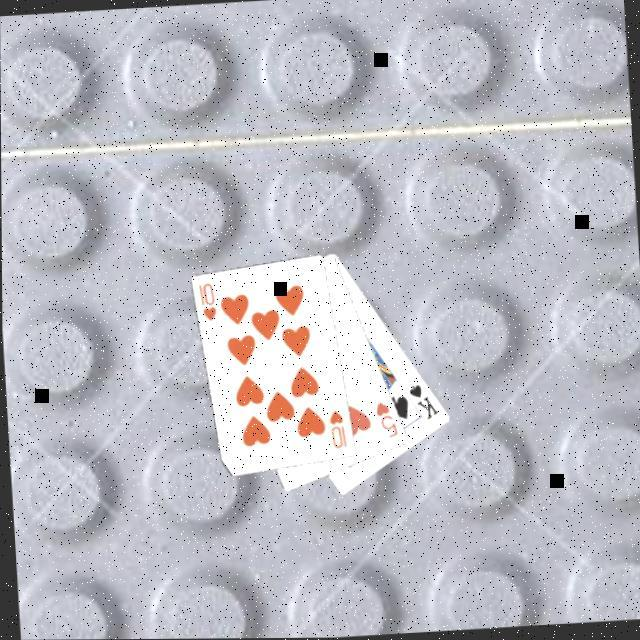10H: (324, 406, 348, 451), (194, 279, 218, 324)
5H: (371, 397, 399, 442)
KS: (403, 379, 441, 423)
